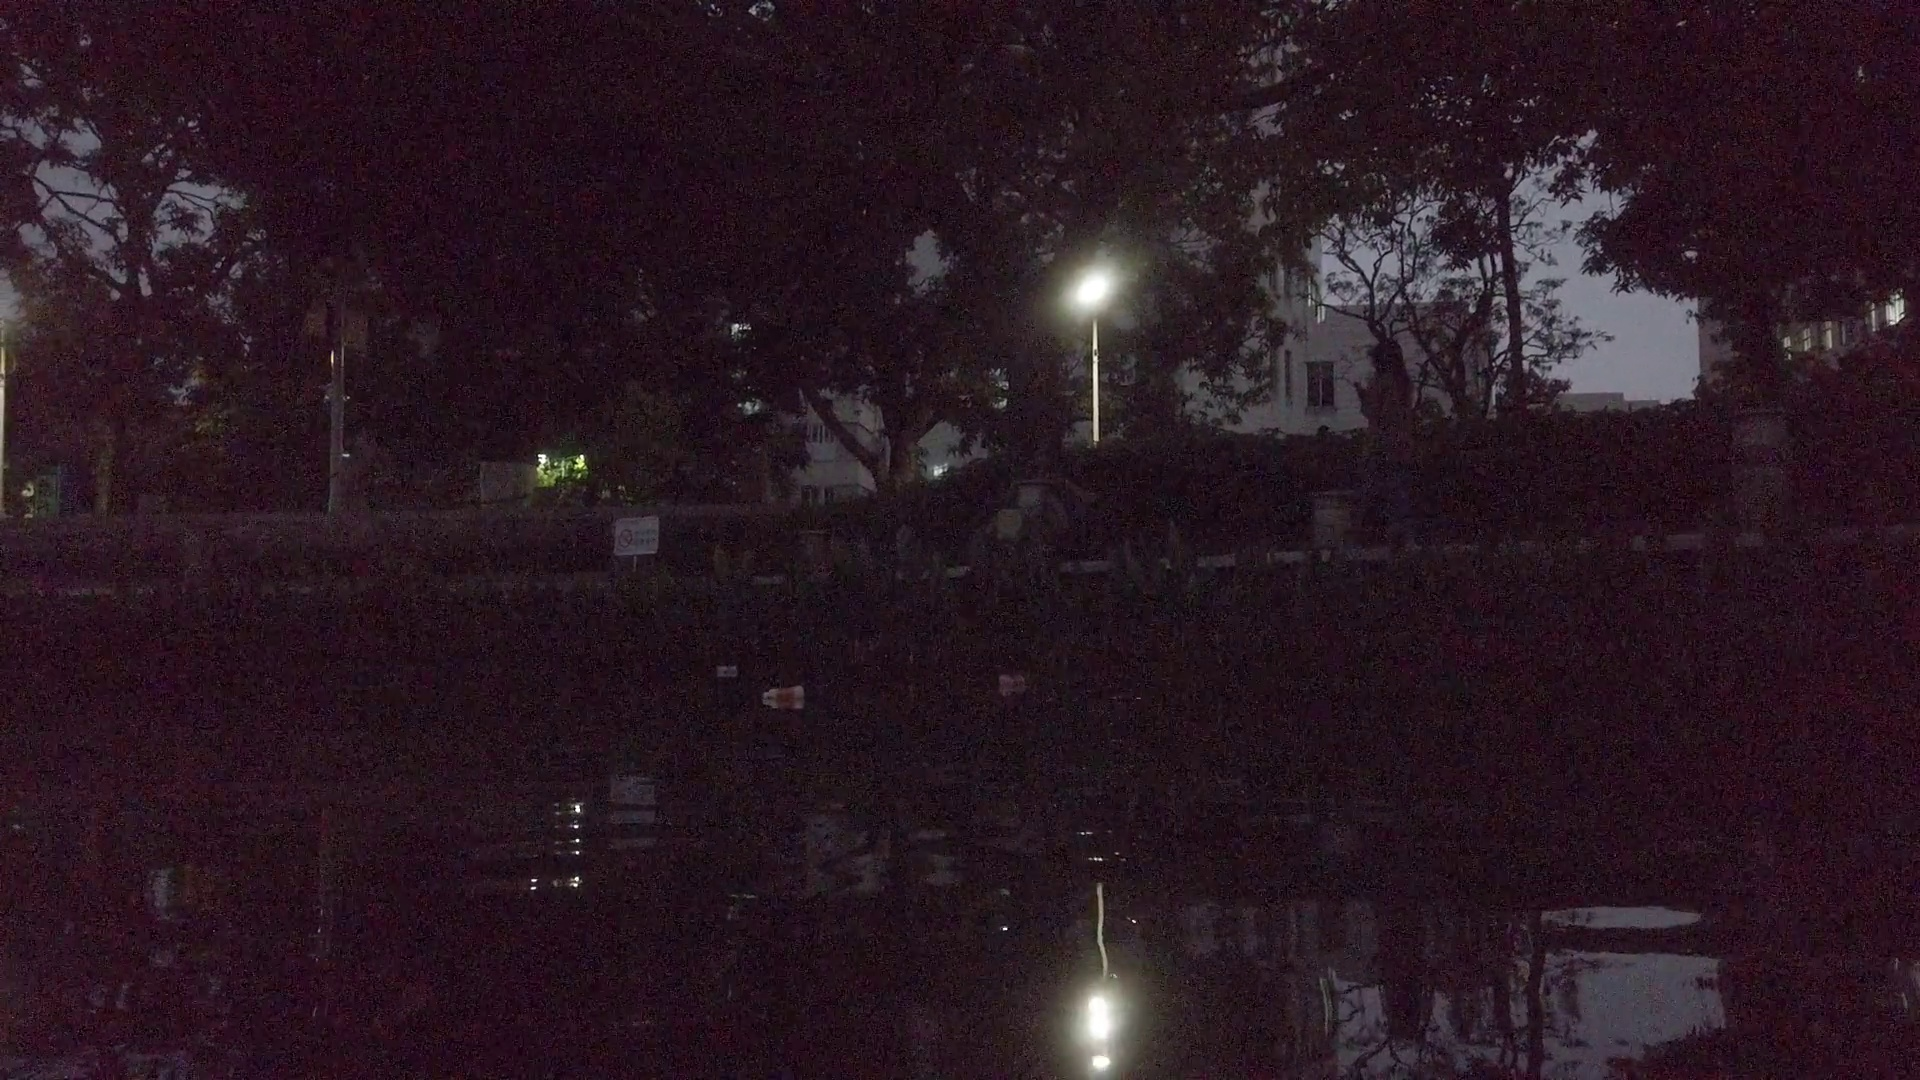bottle: (758, 683, 800, 698), (1000, 675, 1023, 688)
carton: (713, 665, 733, 673)
